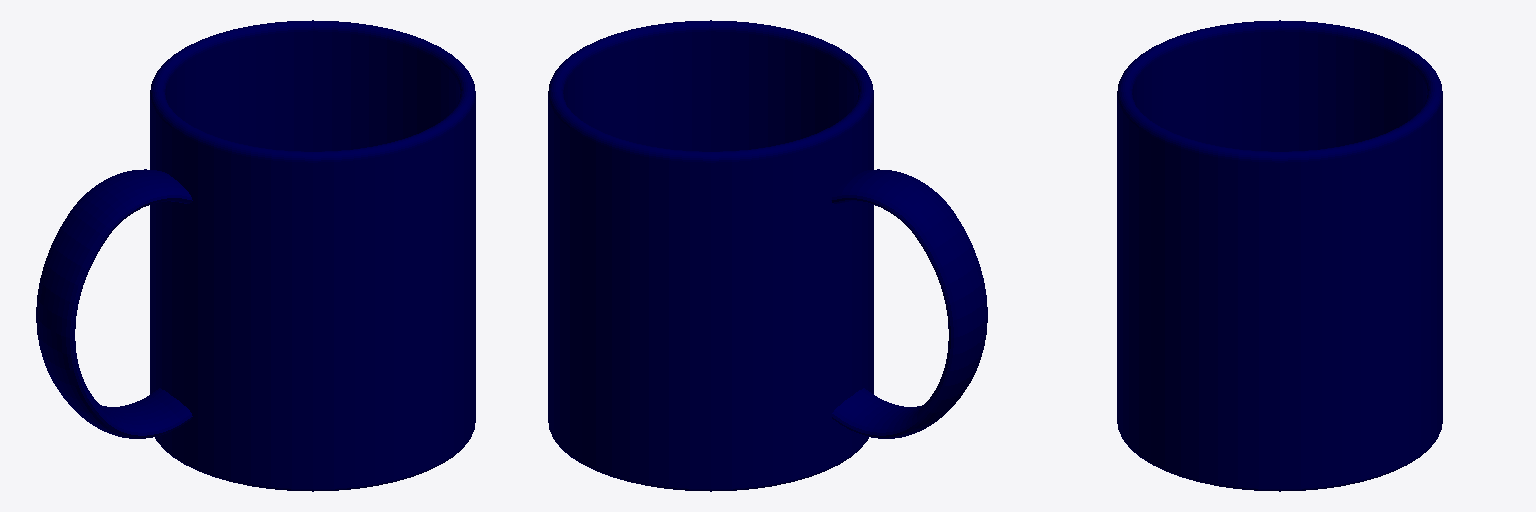
robot.urdf — blueCup:
<robot
  name="blueCup">
  <link name="blueCup">
    <inertial>
      <origin xyz="0.0 0.0 0.0" rpy="0 0 0"/>
      <mass value="0.4"/>
      <inertia ixx="1" ixy="0.0" ixz="0.0" iyy="1" iyz="0.0" izz="1" />
    </inertial>

    <visual>
      <geometry>
        <mesh filename="../meshes/dae/blueCup.dae" scale="1 1 1" />
      </geometry>
     </visual>

    <collision>
      <geometry>
        <mesh filename="../meshes/dae/blueCup.dae" scale="1 1 1" />
      </geometry>
    </collision>

  </link>
</robot>

--- Facts derived from the render (not from the file) ---
Views: 3 orthographic renders of the robot side by side, from view 1: azimuth 30°, elevation 25°; view 2: azimuth 150°, elevation 25°; view 3: azimuth 270°, elevation 25°.
Model blueCup with 1 links and 0 joints (none), rooted at blueCup, posed every joint at zero.
Links seen in each view (by area): view 1: blueCup; view 2: blueCup; view 3: blueCup.
Boxes of the visible links, bbox=[...] form: blueCup: bbox=[36, 20, 475, 491]; blueCup: bbox=[548, 20, 987, 491]; blueCup: bbox=[1117, 20, 1442, 491].
Size in the robot's own frame: 0.1228 by 0.085 by 0.097 metres.
1 mesh visuals loaded from 1 distinct referenced files (1 Collada DAE).